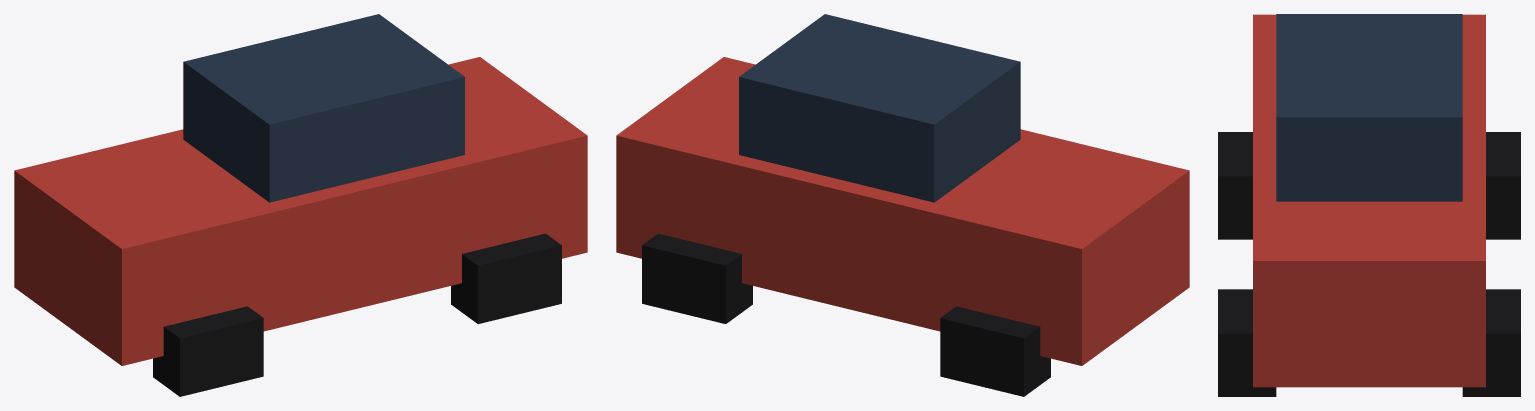
File: car.obj
The picture shows the model from 3 angles, left to right: view 1: azimuth 30°, elevation 25°; view 2: azimuth 150°, elevation 25°; view 3: azimuth 270°, elevation 25°; orthographic projection. The views are drawn at different scales.
Parts seen in each view (by area): view 1: CarBody, CarCabin, CarWheels; view 2: CarBody, CarCabin, CarWheels; view 3: CarBody, CarCabin, CarWheels.
Part boxes in pixels (x1,y1,x2,y2): CarBody: (14,57,587,365); CarCabin: (183,14,464,202); CarWheels: (153,233,561,396); CarBody: (616,57,1189,365); CarCabin: (739,14,1020,202); CarWheels: (642,233,1050,396); CarBody: (1253,14,1485,387); CarCabin: (1276,14,1462,201); CarWheels: (1218,132,1520,396).
Size of the model in its own units: 1 by 0.46 by 0.52.
